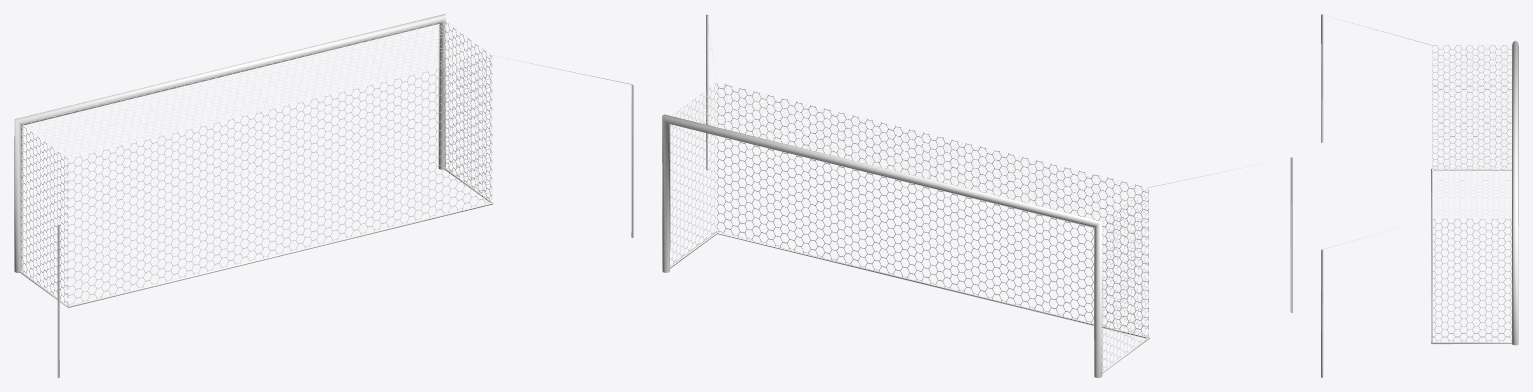
Rendered from sport_goal.glb.
The picture shows the model from 3 angles, left to right: view 1: azimuth 30°, elevation 25°; view 2: azimuth 150°, elevation 25°; view 3: azimuth 270°, elevation 25°; orthographic projection. The views are drawn at different scales.
Parts seen in each view (by area): view 1: NetCube, soccerGoal; view 2: NetCube, soccerGoal; view 3: NetCube, soccerGoal.
Part boxes in pixels (x1=…): NetCube: x1=20, y1=20, x2=492, y2=305; soccerGoal: x1=14, y1=14, x2=633, y2=377; NetCube: x1=670, y1=82, x2=1148, y2=370; soccerGoal: x1=662, y1=14, x2=1292, y2=377; NetCube: x1=1432, y1=45, x2=1511, y2=342; soccerGoal: x1=1321, y1=14, x2=1518, y2=377.
Size of the model in its own units: 5 by 1.3 by 1.77.
4 materials, 3 textured.
